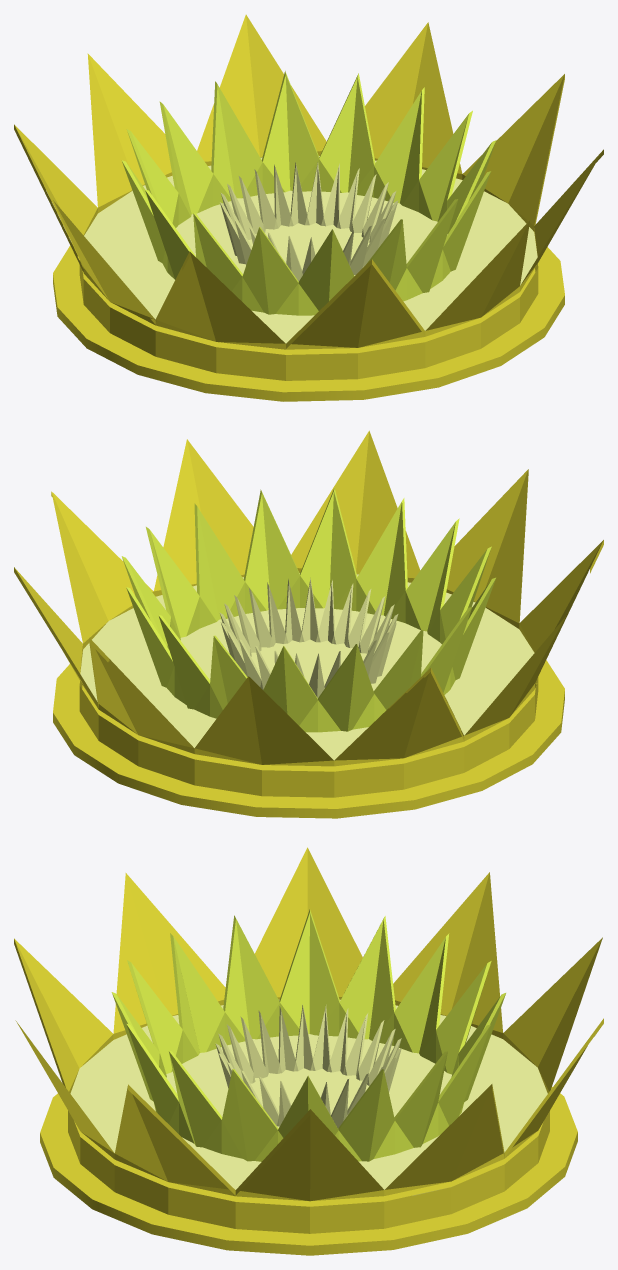
Rendered from portal_abrir_000003.obj.
3 renders of one model, top to bottom at view 1: azimuth 30°, elevation 25°; view 2: azimuth 150°, elevation 25°; view 3: azimuth 270°, elevation 25°, orthographic. The views are drawn at different scales.
Parts seen in each view (by area): view 1: pCylinder1, Cylinder, Cylinder.001; view 2: pCylinder1, Cylinder, Cylinder.001; view 3: pCylinder1, Cylinder, Cylinder.001.
Boxes of the visible parts, bbox=[...] form: pCylinder1: bbox=[14, 14, 603, 401]; Cylinder: bbox=[121, 71, 496, 315]; Cylinder.001: bbox=[220, 162, 398, 281]; pCylinder1: bbox=[14, 430, 603, 818]; Cylinder: bbox=[121, 488, 495, 732]; Cylinder.001: bbox=[220, 578, 398, 698]; pCylinder1: bbox=[14, 847, 603, 1255]; Cylinder: bbox=[111, 909, 505, 1161]; Cylinder.001: bbox=[215, 1004, 401, 1127].
Size of the model in its own units: 2 by 0.5831 by 1.9.
4 materials, 4 textured.
